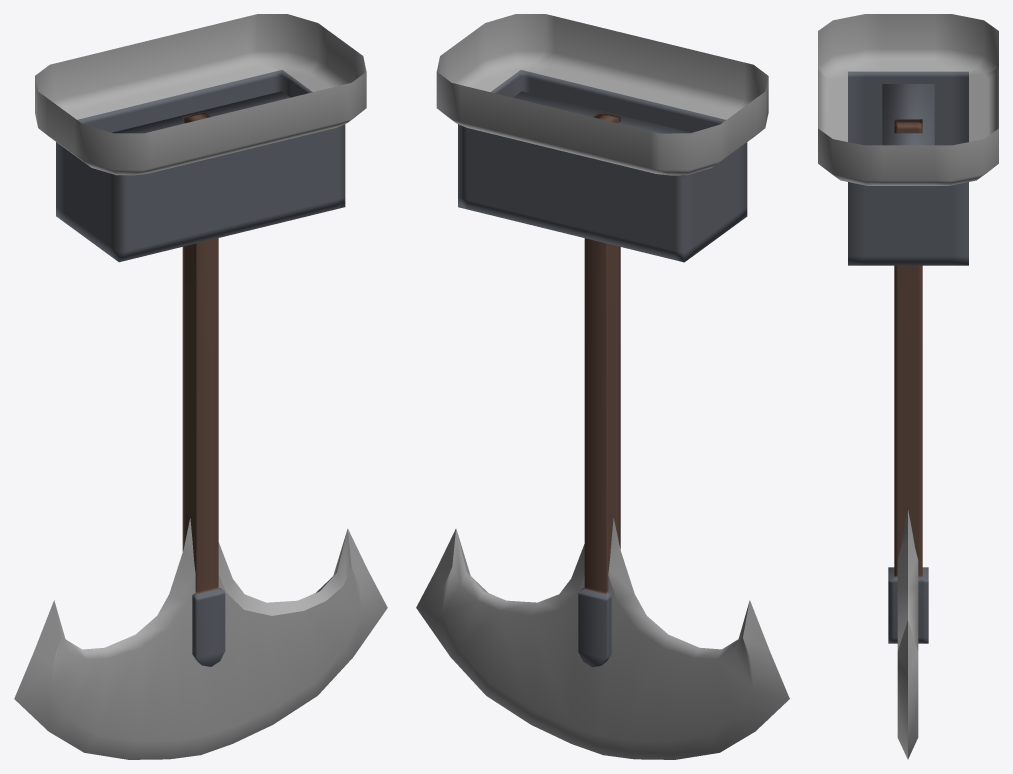
File: axeTrap.fbx
3 views of the same model, side by side, from view 1: azimuth 30°, elevation 25°; view 2: azimuth 150°, elevation 25°; view 3: azimuth 270°, elevation 25° (orthographic). The views are drawn at different scales.
Parts seen in each view (by area): view 1: axe_top, axe; view 2: axe_top, axe; view 3: axe_top, axe.
Part boxes in pixels (x1,y1,x2,y2): axe_top: (35,14,366,262); axe: (14,112,387,759); axe_top: (436,14,768,262); axe: (416,112,789,759); axe_top: (818,14,998,265); axe: (888,119,928,759).
Size of the model in its own units: 165 by 288 by 71.92.
